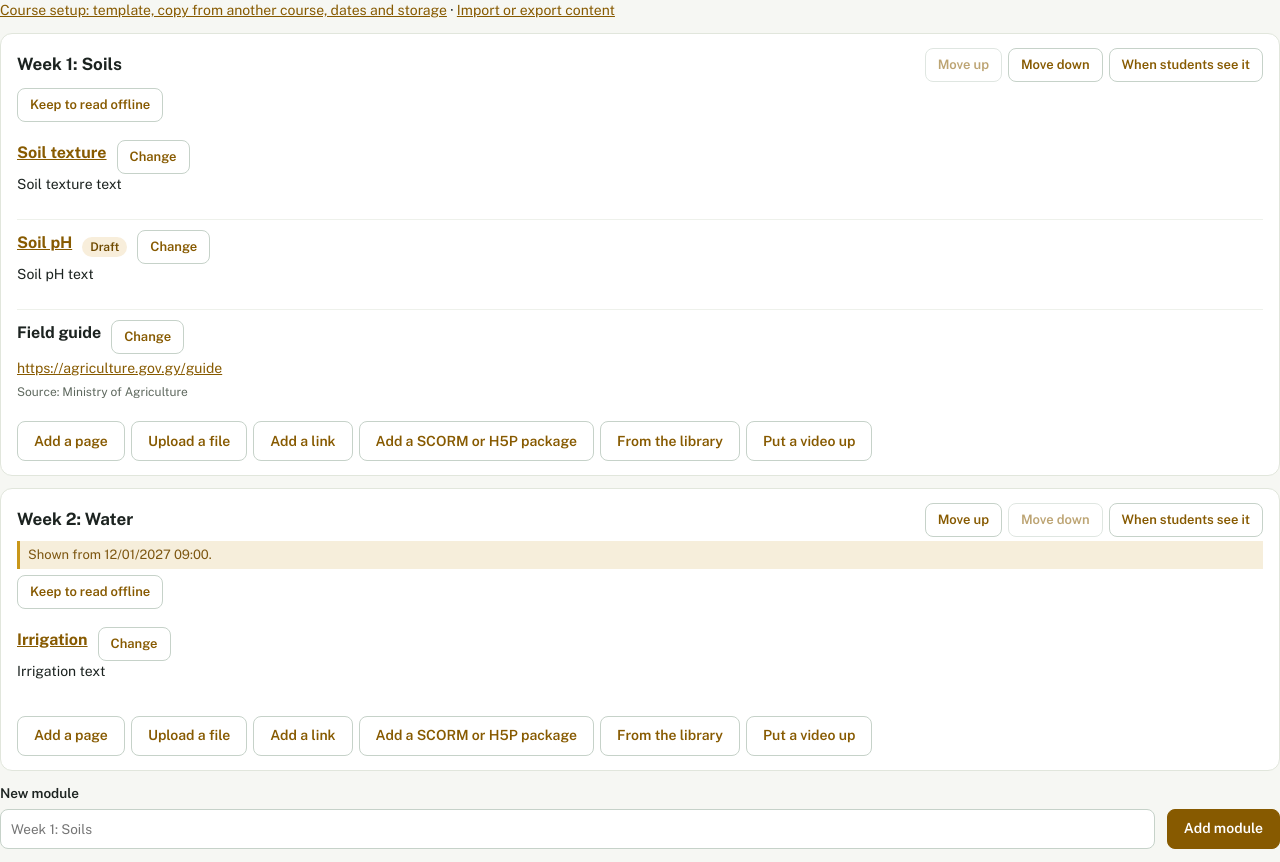
Scenario: the Content tab for teaching staff (items 2.15 and 2.16) › reorders modules
Expected: the button with aria-label "Move the module “Week 1: Soils” up" is disabled, top-left (925, 48), bottom-right (1002, 82)
Click the button with aria-label "Move the module “Week 2: Water” up" at (963,520), box top-left (925, 503), bottom-right (1002, 537)
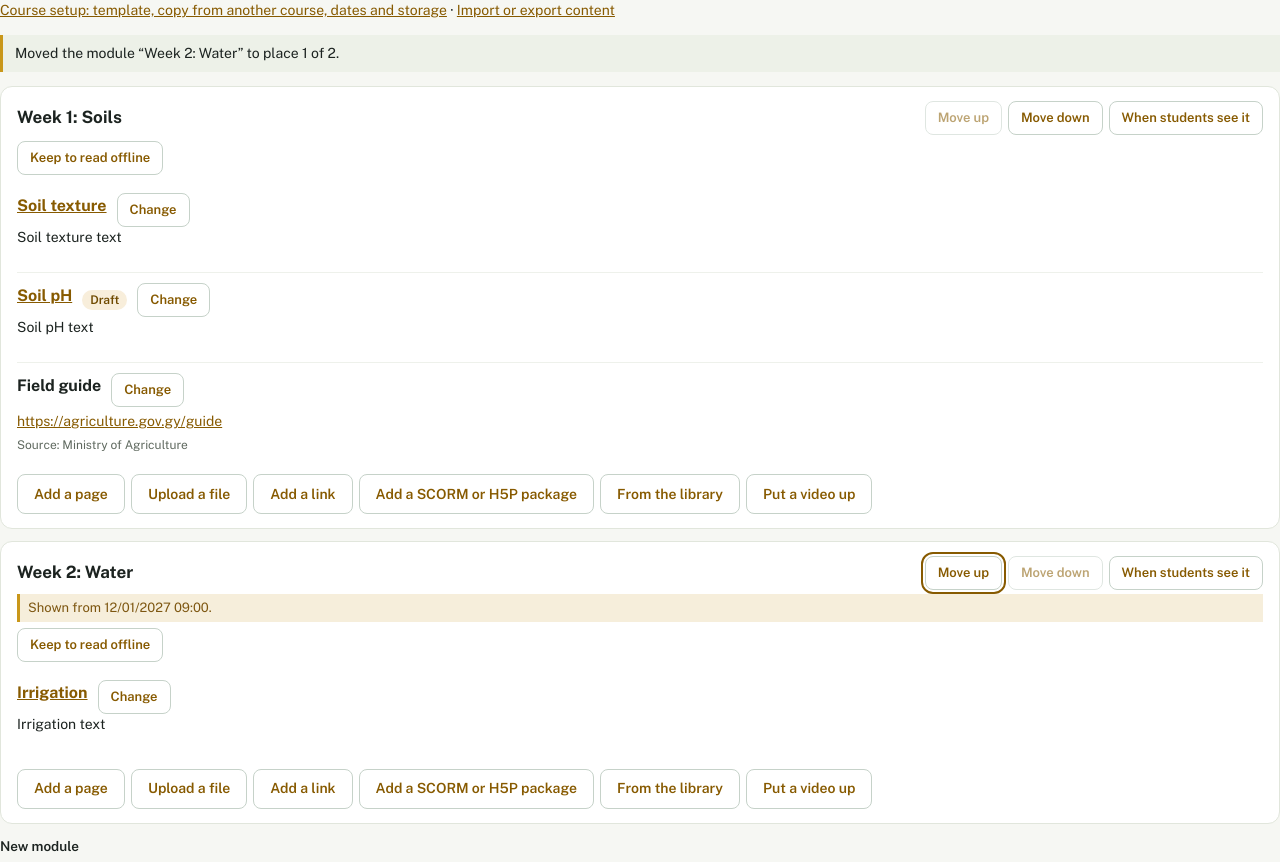
Expected: the message shows "place 1 of 2", top-left (15, 45), bottom-right (339, 61)
